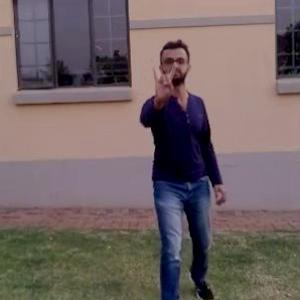takeoff-hand: (146, 56, 184, 108)
